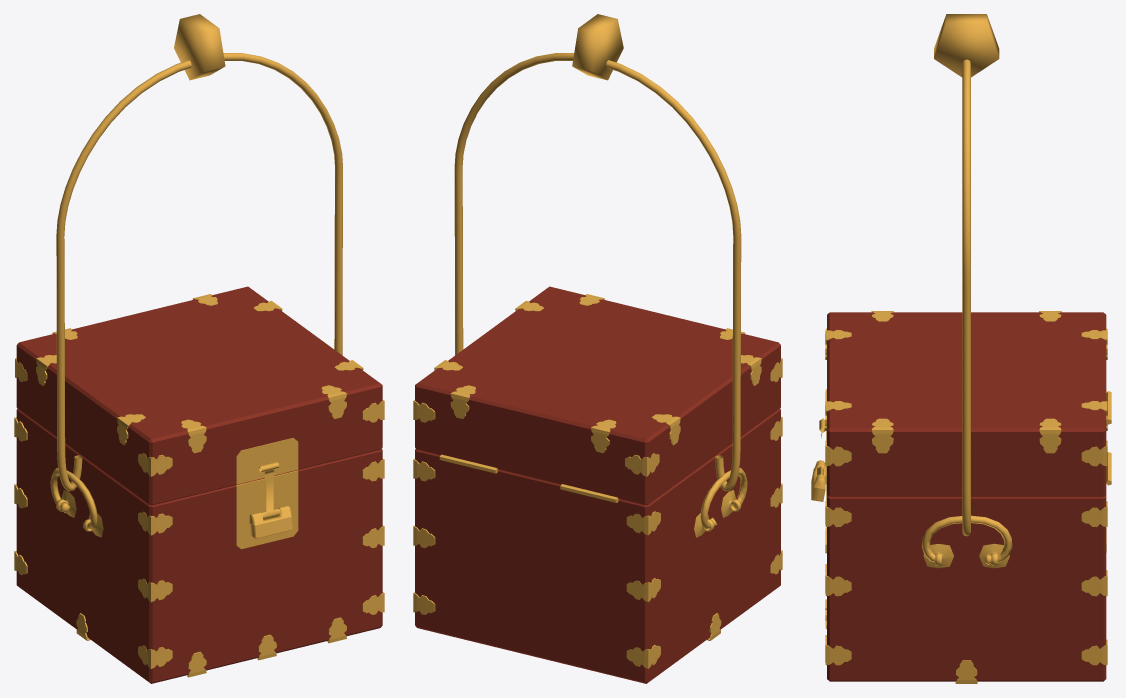
File: Obstacle_Clamp_Box.fbx
The picture shows the model from 3 angles, left to right: view 1: azimuth 30°, elevation 25°; view 2: azimuth 150°, elevation 25°; view 3: azimuth 270°, elevation 25°; orthographic projection. The views are drawn at different scales.
Parts seen in each view (by area): view 1: Box, Cube.211, Box Handle, Plane.230, Box Handle Connector, Plane.231, Cube.212, BezierCurve, Cube.213, Plane.202, Plane.217, Plane.200 (+3 smaller); view 2: Box, Cube.211, Box Handle, Box Handle Connector, BezierCurve, Plane.210, Plane.209, Plane.208, Plane.224, Plane.220, Plane.221; view 3: Cube.211, Box, Box Handle, Box Handle Connector, BezierCurve.002, Plane.223, Plane.222, Plane.228, Cube.212, Plane.229.
Boxes of the visible parts, bbox=[...] form: Box: bbox=[16, 408, 382, 683]; Cube.211: bbox=[16, 286, 382, 505]; Box Handle: bbox=[56, 53, 342, 491]; Plane.230: bbox=[236, 470, 298, 549]; Box Handle Connector: bbox=[174, 14, 225, 80]; Plane.231: bbox=[236, 438, 298, 484]; Cube.212: bbox=[249, 505, 292, 538]; BezierCurve: bbox=[50, 468, 97, 529]; Cube.213: bbox=[258, 462, 280, 518]; Plane.202: bbox=[138, 578, 172, 602]; Plane.217: bbox=[138, 453, 172, 476]; Plane.200: bbox=[138, 645, 172, 668]; Box: bbox=[415, 408, 780, 683]; Cube.211: bbox=[415, 286, 780, 505]; Box Handle: bbox=[454, 53, 741, 491]; Box Handle Connector: bbox=[572, 14, 623, 80]; BezierCurve: bbox=[700, 468, 747, 529]; Plane.210: bbox=[626, 578, 660, 602]; Plane.209: bbox=[626, 511, 660, 535]; Plane.208: bbox=[626, 645, 660, 668]; Plane.224: bbox=[625, 453, 659, 476]; Plane.220: bbox=[591, 419, 616, 453]; Plane.221: bbox=[450, 385, 475, 418]; Cube.211: bbox=[827, 312, 1106, 496]; Box: bbox=[827, 495, 1106, 681]; Box Handle: bbox=[962, 59, 970, 536]; Box Handle Connector: bbox=[934, 14, 999, 77]; BezierCurve.002: bbox=[921, 515, 1012, 564]; Plane.223: bbox=[871, 418, 893, 453]; Plane.222: bbox=[1039, 418, 1061, 453]; Plane.228: bbox=[923, 543, 953, 568]; Cube.212: bbox=[811, 460, 825, 501]; Plane.229: bbox=[979, 543, 1009, 568].
Size of the model in its own units: 244 by 215 by 478.
